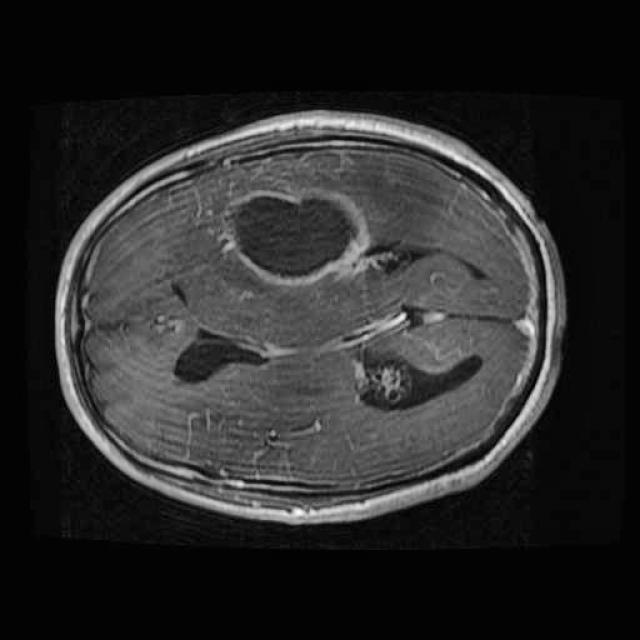Tumor: (212, 183, 380, 299)
